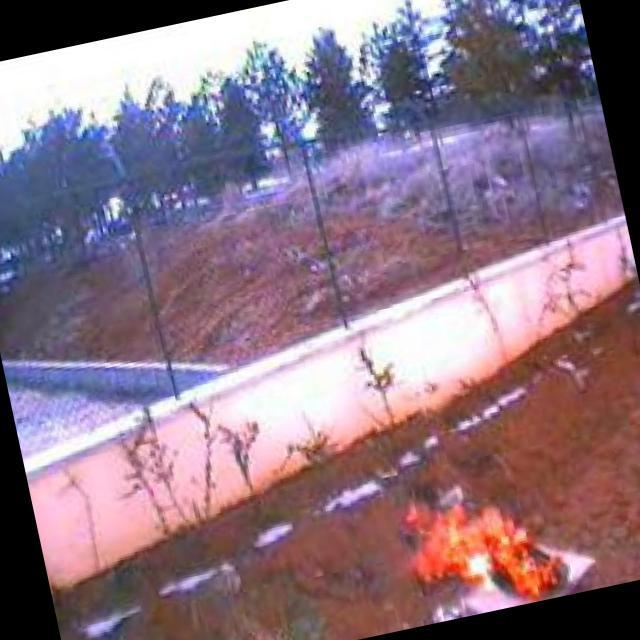Fire: (400, 475, 574, 624)
